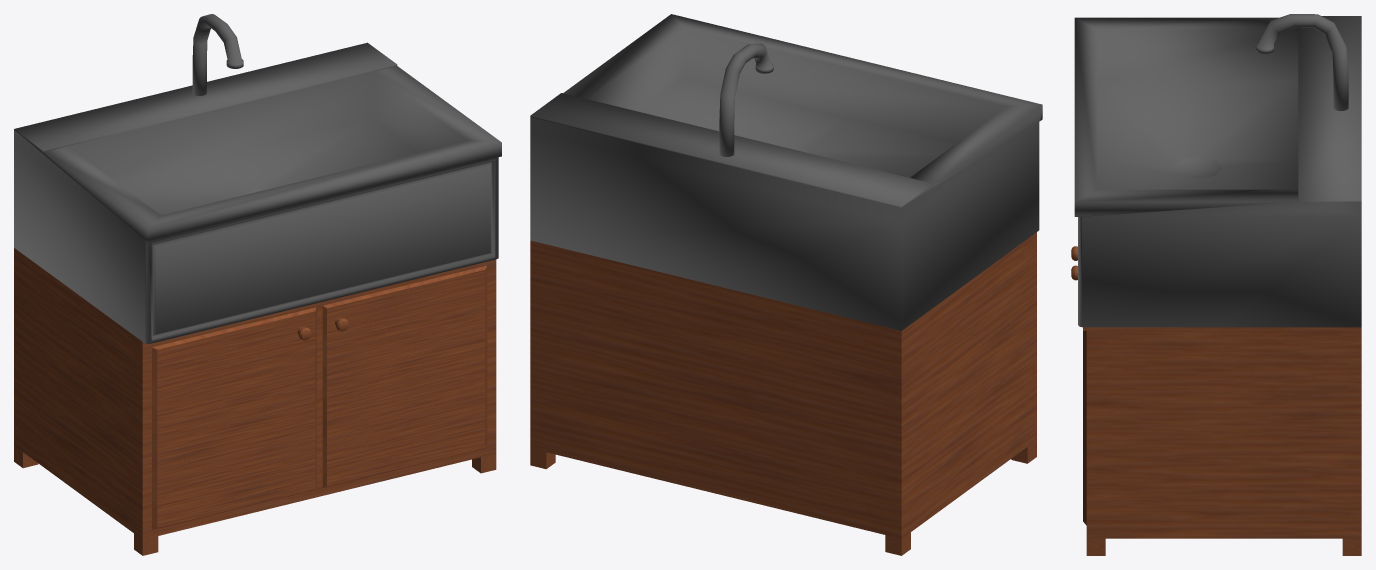
The model's file is Sink.fbx.
3 renders of one model, left to right at view 1: azimuth 30°, elevation 25°; view 2: azimuth 150°, elevation 25°; view 3: azimuth 270°, elevation 25°, orthographic. The views are drawn at different scales.
Visible parts, largest first — view 1: Spüle, Unterschrank; view 2: Spüle, Unterschrank; view 3: Spüle, Unterschrank.
Part boxes in pixels (x1,y1,x2,y2): Spüle: (14, 14, 501, 343); Unterschrank: (14, 248, 496, 555); Spüle: (530, 14, 1042, 330); Unterschrank: (530, 232, 1036, 555); Spüle: (1074, 14, 1361, 327); Unterschrank: (1071, 246, 1361, 555).
Bounding box in the file's own units: 1 × 1.13 × 0.6655.
